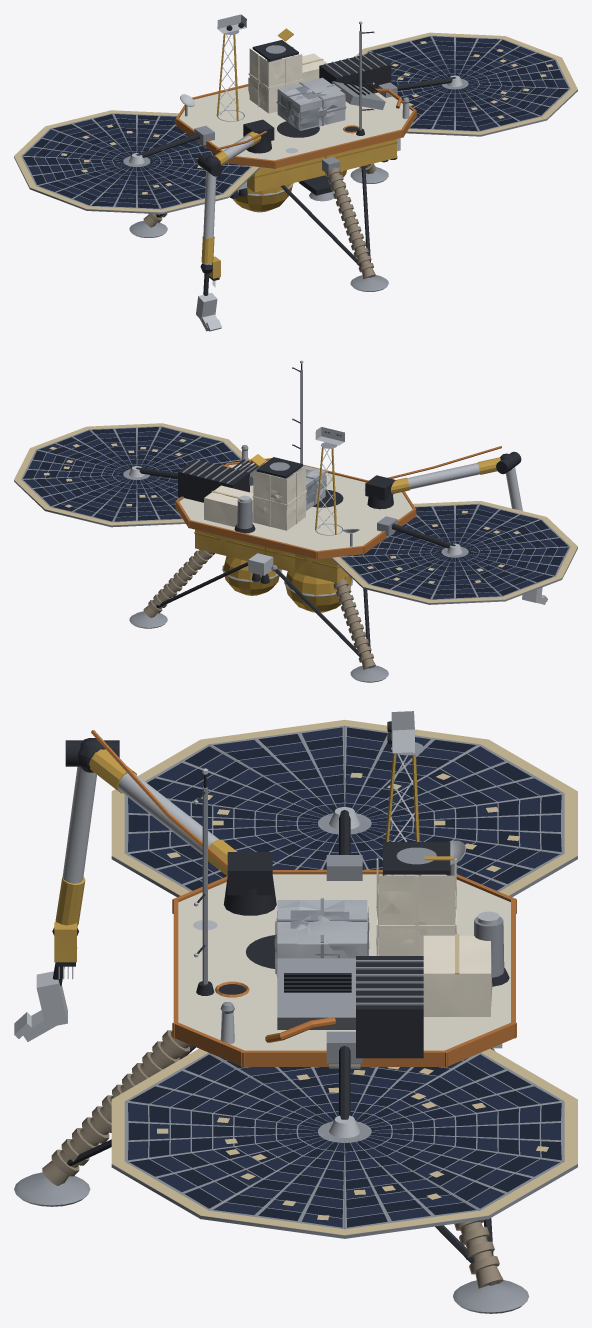
Rendered from phoenix.glb.
3 views of the same model, one above another, from view 1: azimuth 30°, elevation 25°; view 2: azimuth 150°, elevation 25°; view 3: azimuth 270°, elevation 25° (orthographic). The views are drawn at different scales.
Visible parts, largest first — view 1: body, solar-panel, foil; view 2: body, solar-panel, foil; view 3: body, solar-panel, foil.
Part boxes in pixels (x1,y1,x2,y2): body: (14,14,577,331); solar-panel: (23,36,568,208); foil: (175,28,416,278); body: (14,360,577,682); solar-panel: (23,427,568,599); foil: (175,445,501,612); body: (14,711,577,1313); solar-panel: (128,727,561,1227); foil: (54,730,516,1067).
Size of the model in its own units: 5.42 by 2.23 by 2.51.
